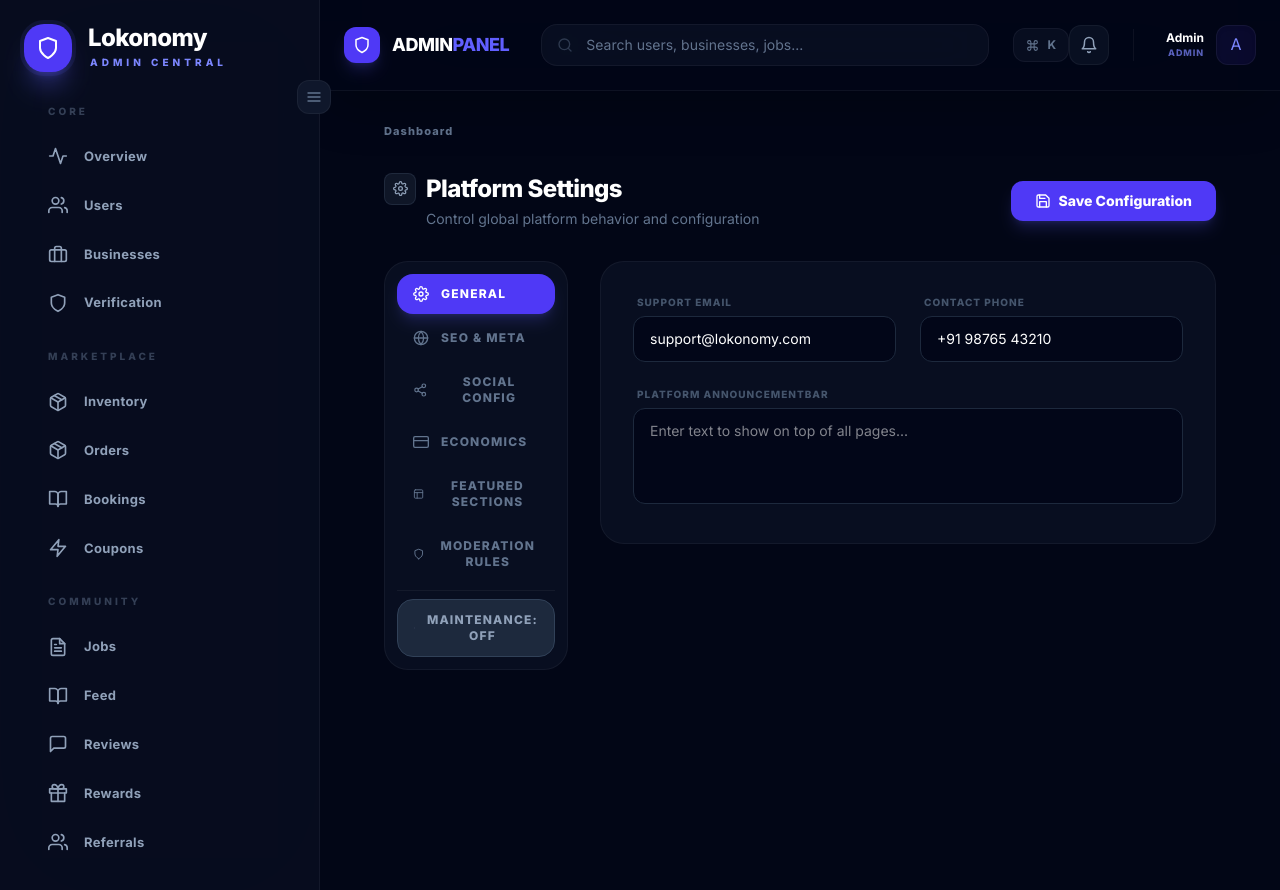
AdminSettings Component › switches to SEO tab and displays SEO settings
The width and height of the screenshot is (1280, 890).
Expected: the heading "Platform Settings" is shown, [426,173,622,205]
Click the button "SEO & Meta": {"x": 476, "y": 338} [397,318,555,358]
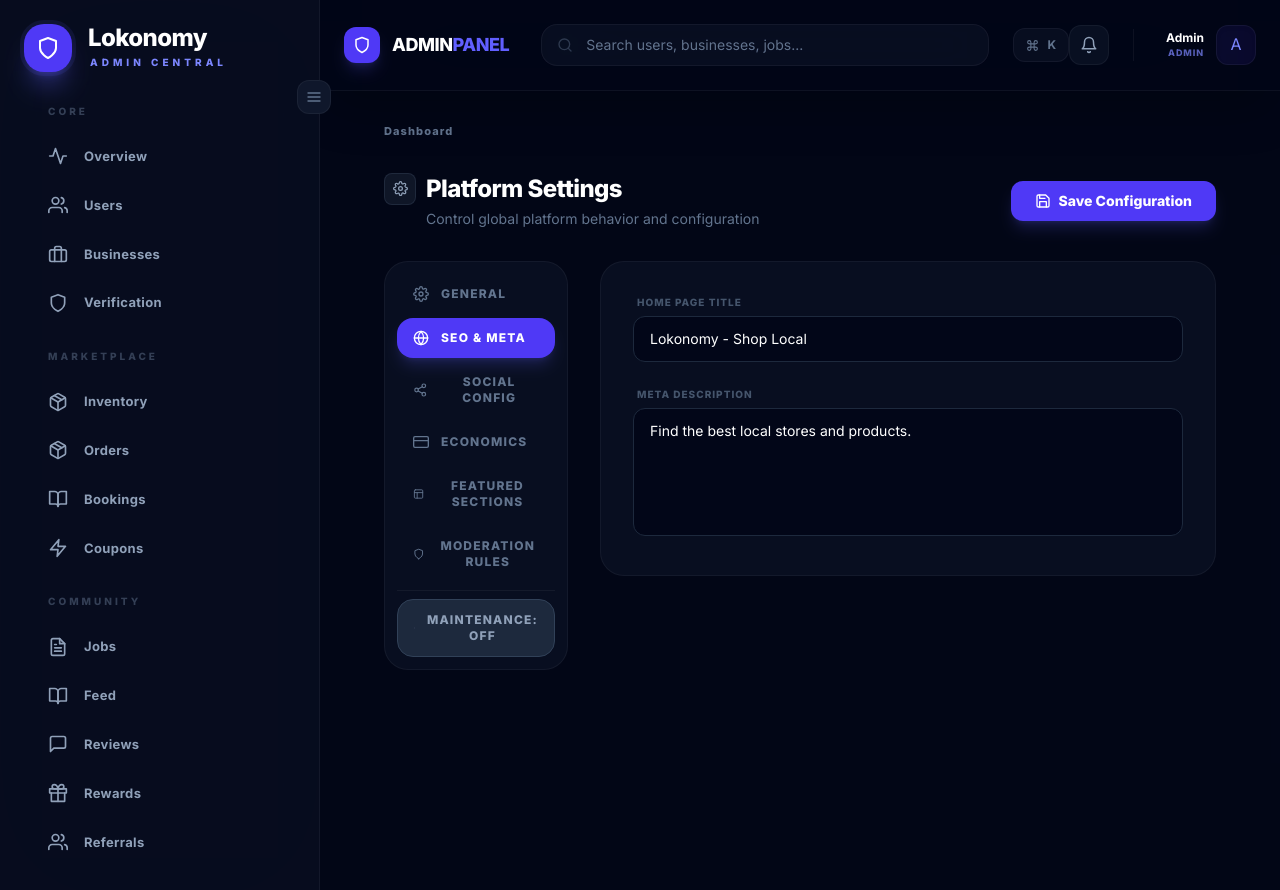
Expected: the field showing "Lokonomy - Shop Local" is shown, [633,316,1183,362]
Expected: the text box showing "Find the best local stores and products." is shown, [633,408,1183,536]
